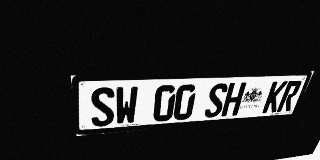0: (152, 85, 177, 122), (172, 84, 197, 121)
H: (221, 82, 247, 117)
K: (262, 81, 288, 113)
R: (276, 81, 303, 112)
S: (90, 87, 114, 127), (203, 83, 229, 118)
W: (115, 86, 138, 125)
